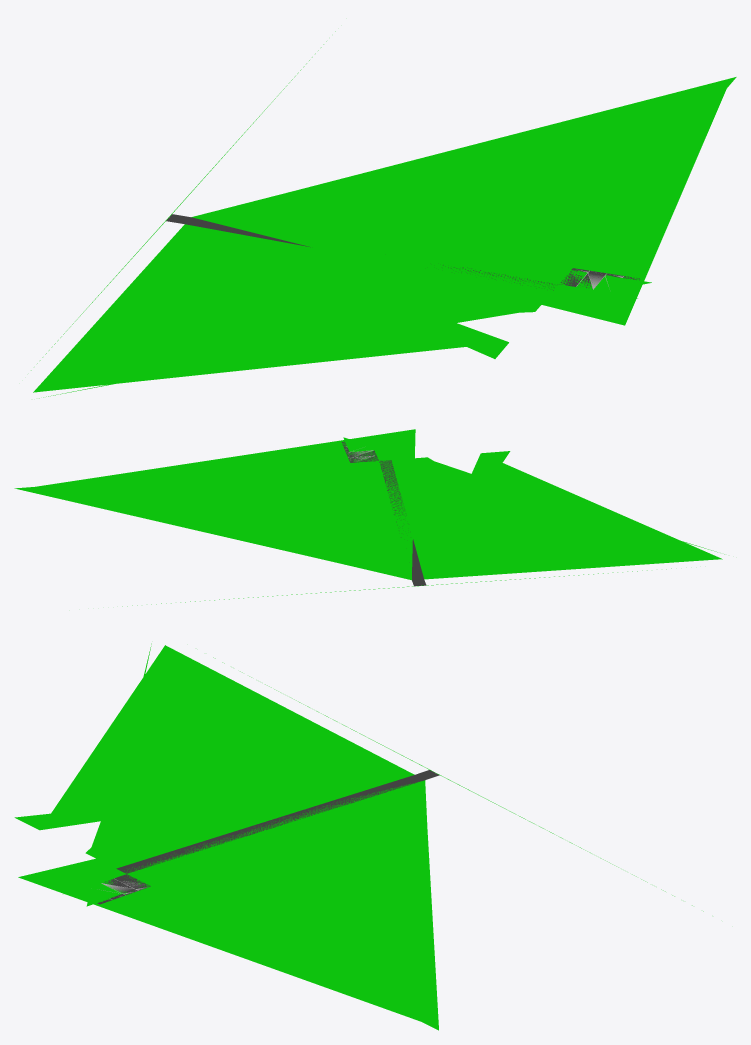
3 views of the same model, one above another, from view 1: azimuth 30°, elevation 25°; view 2: azimuth 150°, elevation 25°; view 3: azimuth 270°, elevation 25° (orthographic). The views are drawn at different scales.
Size of the model in its own units: 197 by 0.001 by 154.
